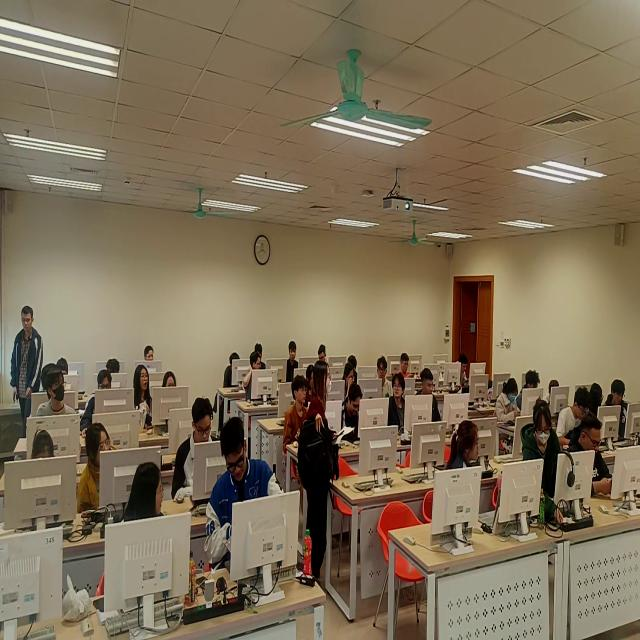raise_head: (37, 363, 77, 420), (282, 375, 310, 451), (135, 363, 154, 432), (389, 371, 408, 434), (377, 353, 392, 399), (288, 340, 300, 382), (145, 343, 156, 364)
stand: (300, 357, 337, 586), (9, 297, 46, 440), (520, 396, 563, 514)
using_computer: (206, 414, 287, 569), (171, 395, 221, 505), (79, 369, 112, 432), (555, 386, 589, 447), (606, 376, 635, 436), (343, 381, 366, 443), (418, 369, 443, 421), (493, 376, 520, 421), (518, 370, 543, 412), (224, 349, 243, 388), (588, 381, 604, 423), (458, 352, 472, 391), (545, 375, 561, 406), (342, 362, 360, 389), (163, 369, 181, 393), (106, 354, 124, 378), (400, 350, 414, 380), (319, 342, 331, 366), (57, 357, 71, 376)
using_phone: (571, 409, 615, 500)
